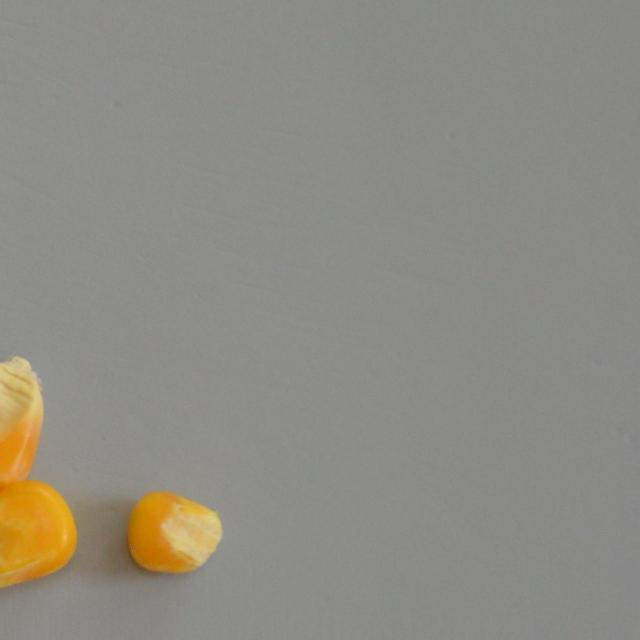entero: (0, 354, 48, 496)
pelicula: (0, 480, 76, 591), (124, 489, 222, 574)
